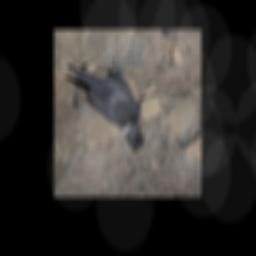Crow: (65, 48, 148, 153)
